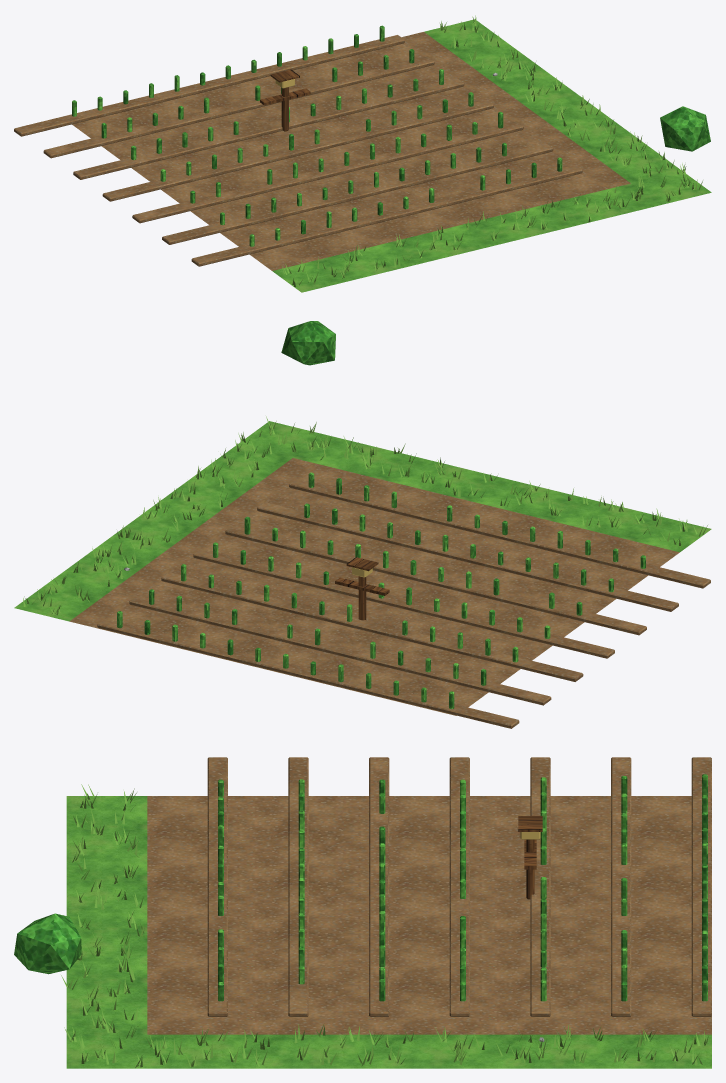
The model's file is chunk_3_10.glb.
The picture shows the model from 3 angles, top to bottom: view 1: azimuth 30°, elevation 25°; view 2: azimuth 150°, elevation 25°; view 3: azimuth 270°, elevation 25°; orthographic projection. The views are drawn at different scales.
Visible parts, largest first — view 1: chunk_3_10; view 2: chunk_3_10; view 3: chunk_3_10.
Part boxes in pixels (bbox=[...]): chunk_3_10: bbox=[14, 15, 711, 292]; chunk_3_10: bbox=[14, 321, 711, 728]; chunk_3_10: bbox=[14, 757, 711, 1068].
Size of the model in its own units: 18.06 by 3.68 by 17.3.
8 materials, 6 textured.
